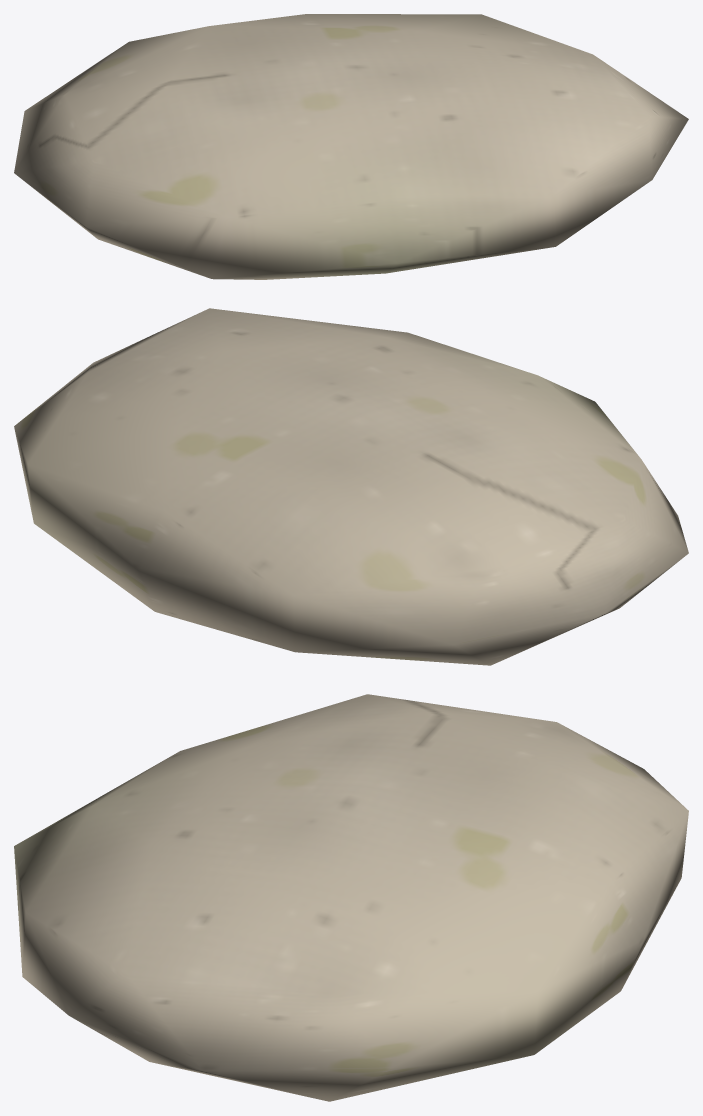
File: region-prop-230.glb
3 views of the same model, one above another, from view 1: azimuth 30°, elevation 25°; view 2: azimuth 150°, elevation 25°; view 3: azimuth 270°, elevation 25° (orthographic). The views are drawn at different scales.
Parts seen in each view (by area): view 1: props_rock_0; view 2: props_rock_0; view 3: props_rock_0.
Part boxes in pixels (x1=…): props_rock_0: x1=14, y1=14, x2=688, y2=279; props_rock_0: x1=14, y1=308, x2=688, y2=665; props_rock_0: x1=14, y1=694, x2=688, y2=1101.
Size of the model in its own units: 0.4695 by 0.1273 by 0.3861.
Materials: 1 (1 with a texture image).
